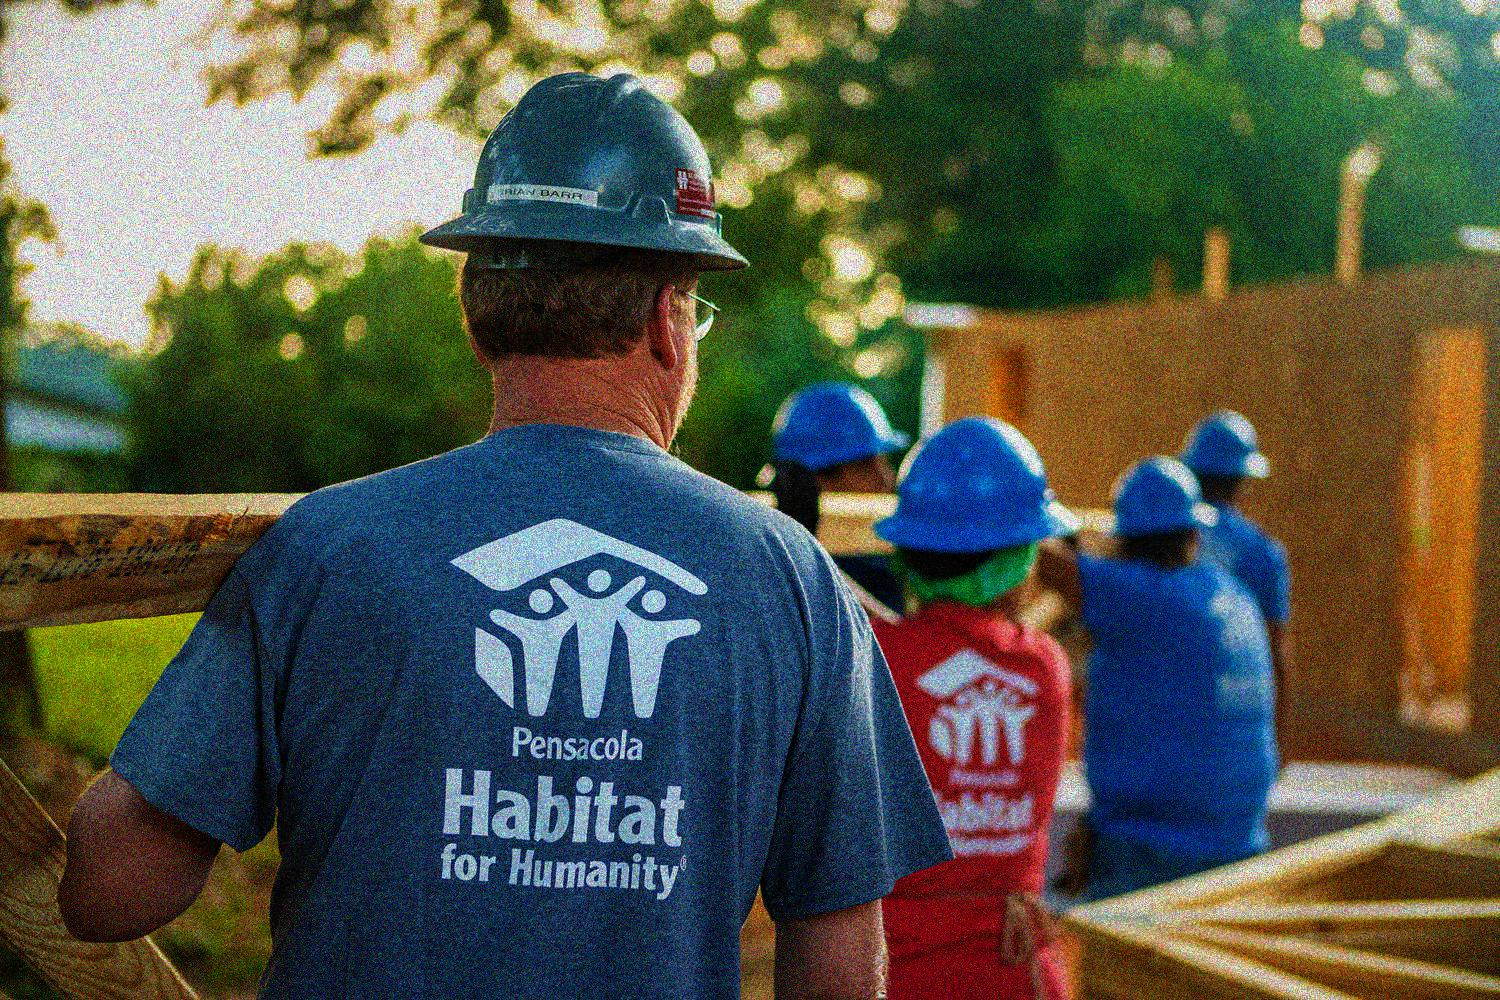helmet: (411, 62, 756, 467), (873, 414, 1081, 610), (758, 377, 913, 502), (1102, 448, 1221, 567), (1177, 405, 1273, 515)
